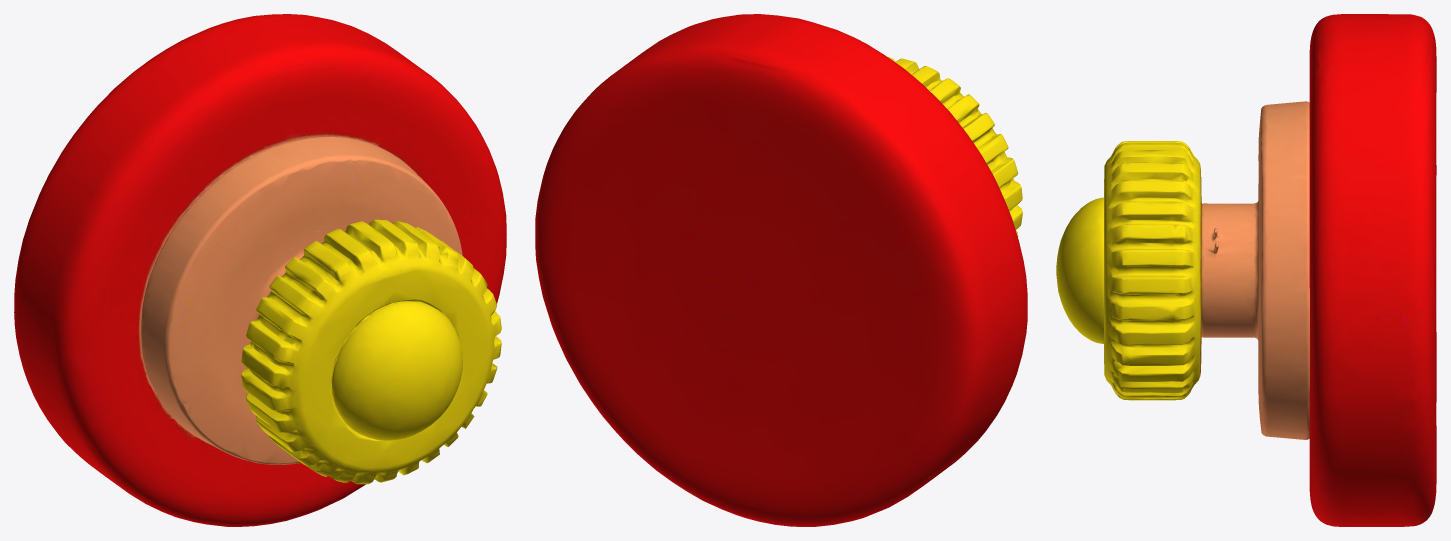
File: clamp.glb
3 views of the same model, side by side, from view 1: azimuth 30°, elevation 25°; view 2: azimuth 150°, elevation 25°; view 3: azimuth 270°, elevation 25° (orthographic).
Visible parts, largest first — view 1: tripo_node_a387f302-7767-4441-89a8-b71408858f3b; view 2: tripo_node_a387f302-7767-4441-89a8-b71408858f3b; view 3: tripo_node_a387f302-7767-4441-89a8-b71408858f3b.
Boxes of the visible parts, bbox=[...] form: tripo_node_a387f302-7767-4441-89a8-b71408858f3b: bbox=[14, 14, 506, 526]; tripo_node_a387f302-7767-4441-89a8-b71408858f3b: bbox=[535, 14, 1027, 526]; tripo_node_a387f302-7767-4441-89a8-b71408858f3b: bbox=[1056, 14, 1436, 526].
Bounding box in the file's own units: 0.9792 × 0.9798 × 0.721.
Materials: 1 (1 with a texture image).
